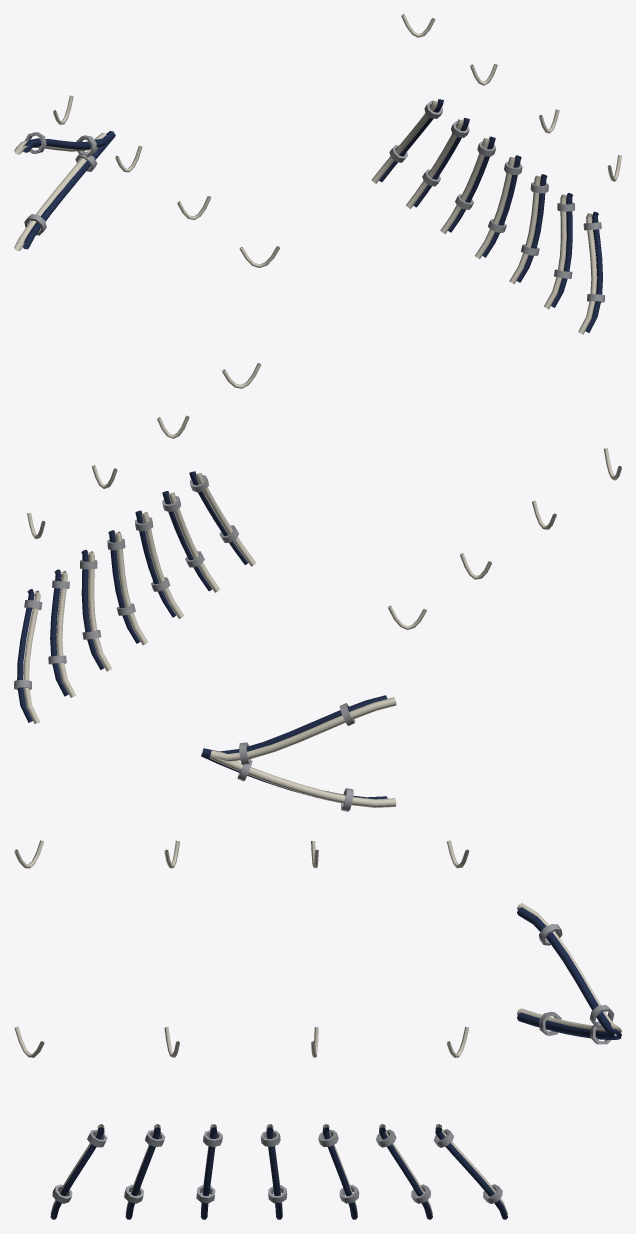
Rendered from s60_harness.obj.
3 views of the same model, one above another, from view 1: azimuth 30°, elevation 25°; view 2: azimuth 150°, elevation 25°; view 3: azimuth 270°, elevation 25° (orthographic). The views are drawn at different scales.
Parts seen in each view (by area): view 1: s60_harness; view 2: s60_harness; view 3: s60_harness.
Part boxes in pixels (<box>): s60_harness: <box>14,14,621,334</box>; s60_harness: <box>14,363,621,811</box>; s60_harness: <box>14,840,621,1219</box>.
Bounding box in the file's own units: 0.9459 × 0.413 × 1.17.
